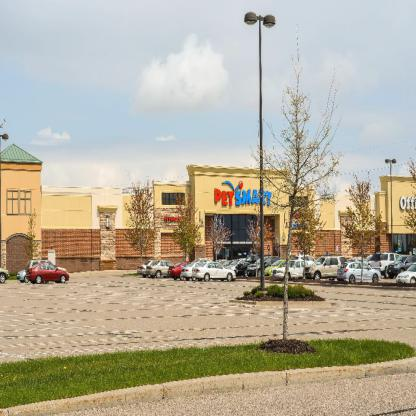Car: (137, 252, 416, 288), (0, 258, 70, 284)
